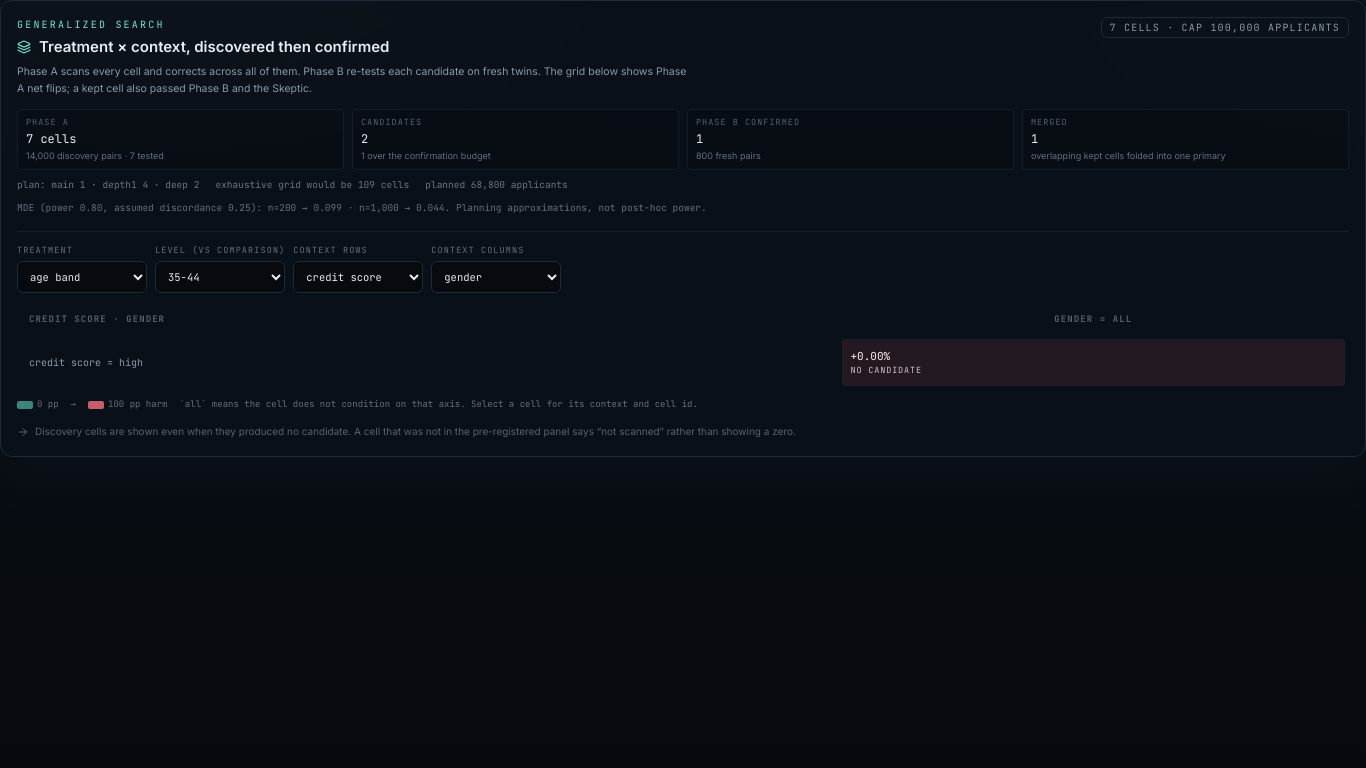
it: SearchPanel › lets the reader pick a treatment level and inspect a cell
expect the text "+0.00%" is shown: met, box top-left (850, 349), bottom-right (890, 363)
Select "45+" in the dropdown labelled "level (vs comparison)" at (220, 277), box top-left (155, 261), bottom-right (285, 293)
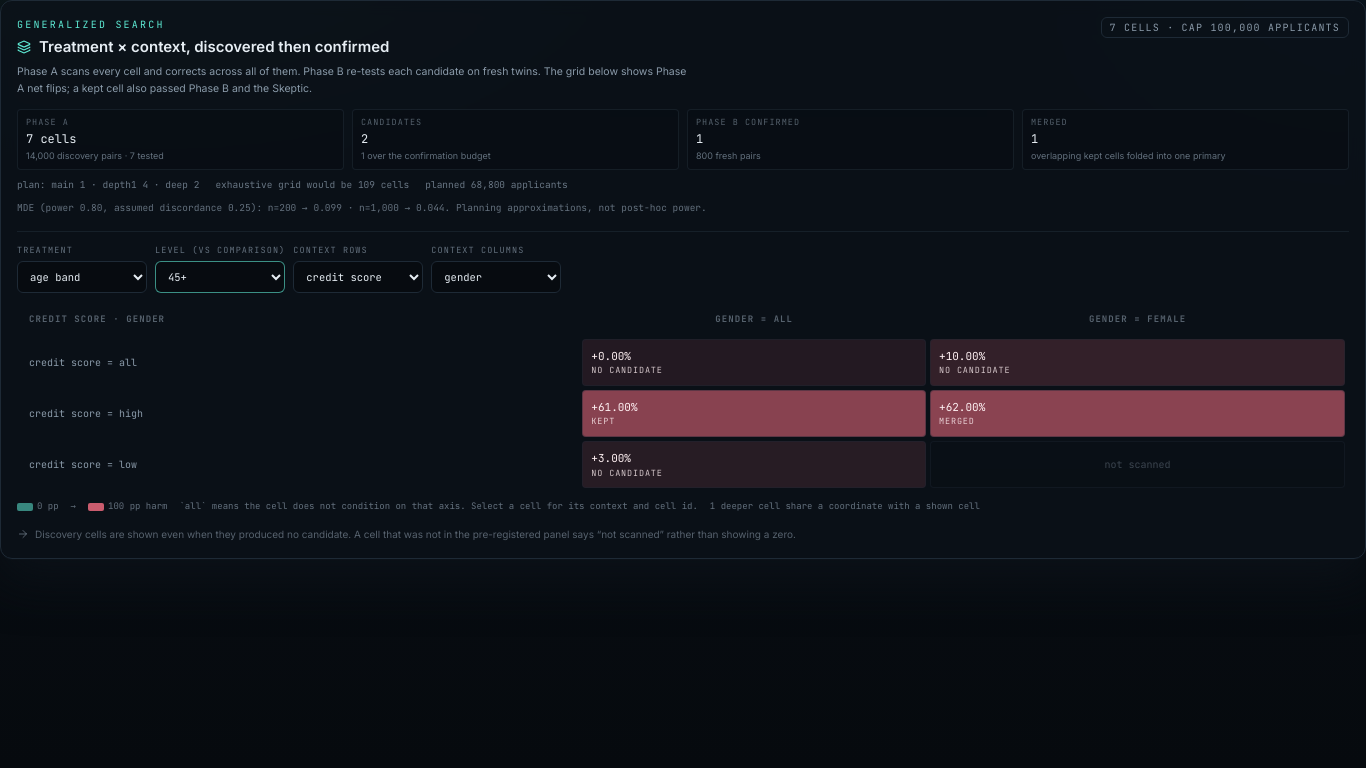
Click the button "+61.00% kept" at (614, 407), box top-left (582, 390), bottom-right (926, 437)
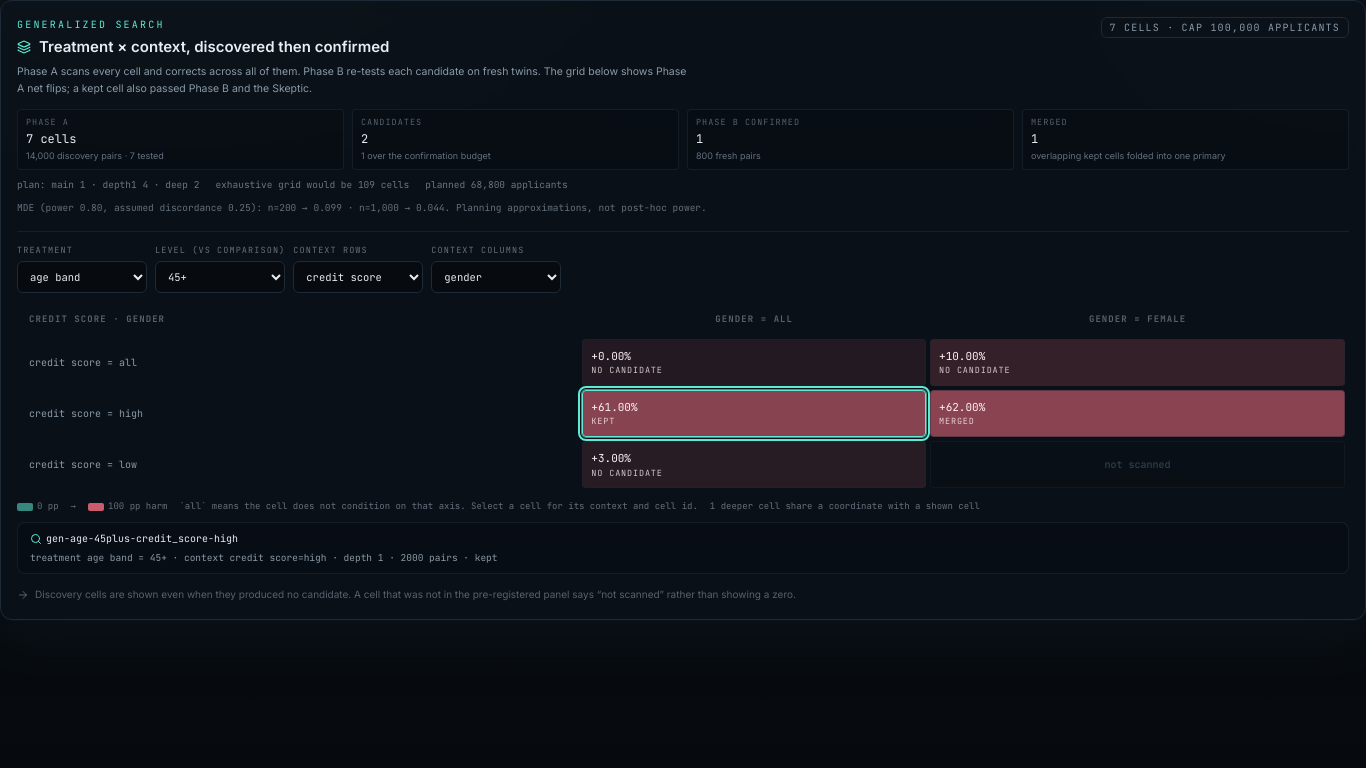
expect the text "gen-age-45plus-credit_score-high" is shown: met, box top-left (30, 532), bottom-right (238, 545)
expect the text "credit score=high · depth 1 · 2000 pairs" is shown: met, box top-left (30, 551), bottom-right (498, 564)
